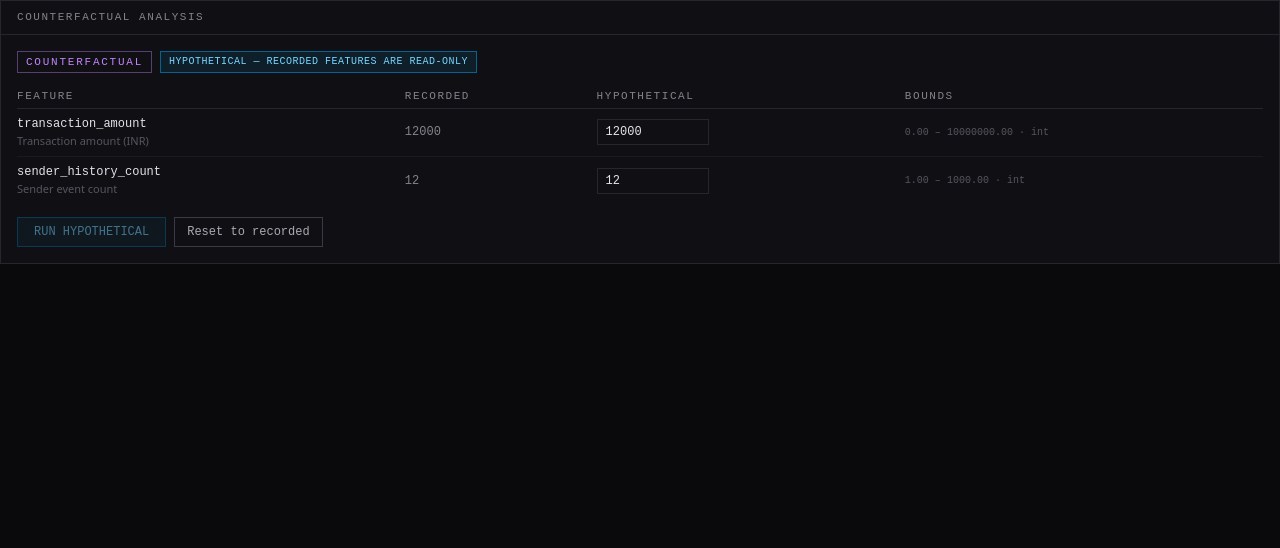
Test: CounterfactualPanel › submits only modified features and renders the hypothetical result with the disclaimer
Replace the text in the number field named "transaction_amount hypothetical value" with "60000": (653, 132) [597,120,709,146]
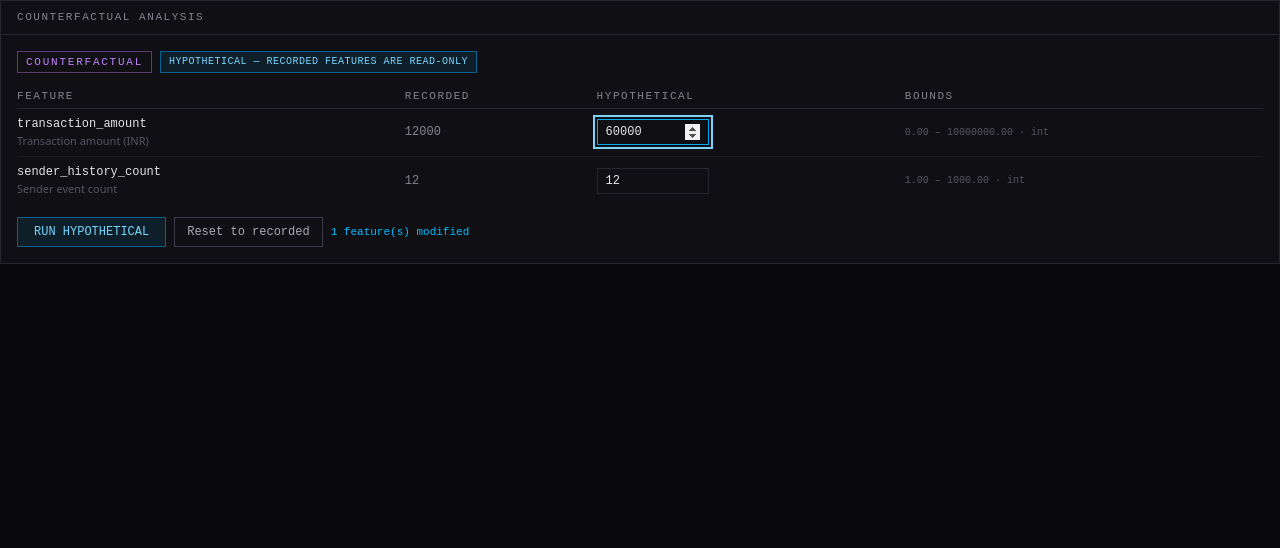
Click the button "Run hypothetical": (92, 232) [17,217,166,247]
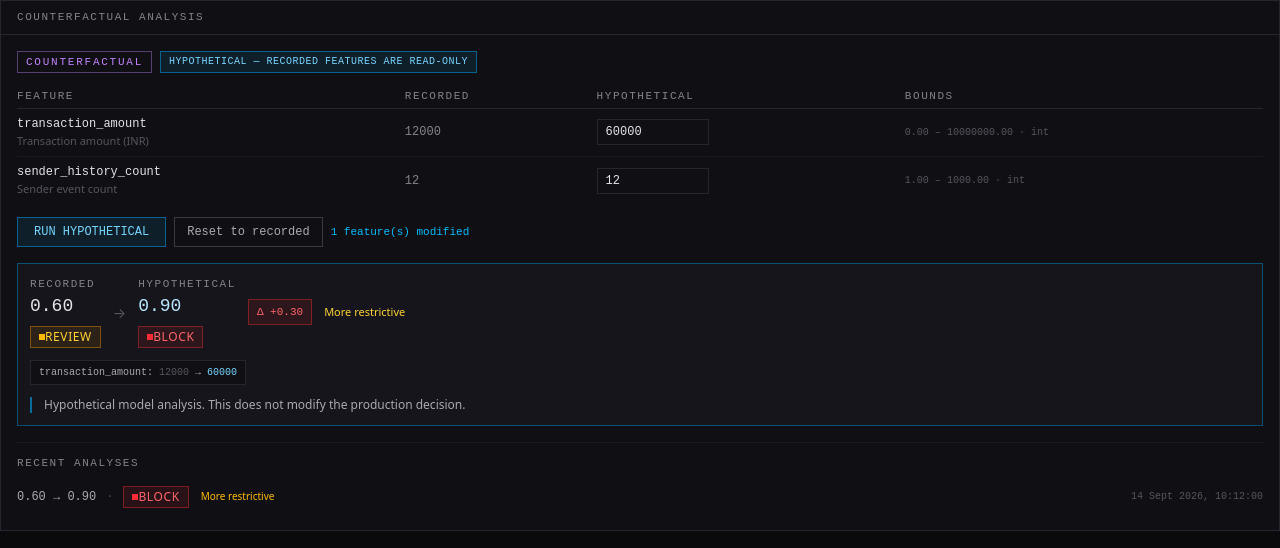
Expected: the element with test id "counterfactual-result" shows "0.60", [30,296,73,316]
Expected: the element with test id "counterfactual-result" shows "0.90", [138,296,181,316]
Expected: the element with test id "counterfactual-result" shows "REVIEW", [45,328,92,346]
